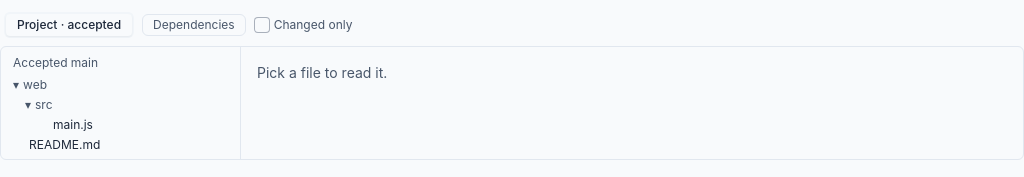
Scenario: CodeBrowser › shows the project's files and opens one
Click the button "main.js": [120, 125] box left=5, top=115, right=236, bottom=135
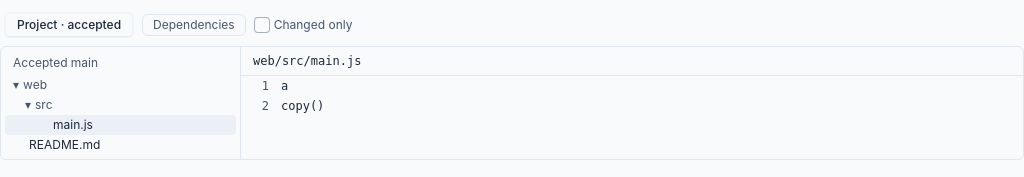
Expected: the element with test id "code-file" shows "copy()", left=281, top=99, right=324, bottom=113
